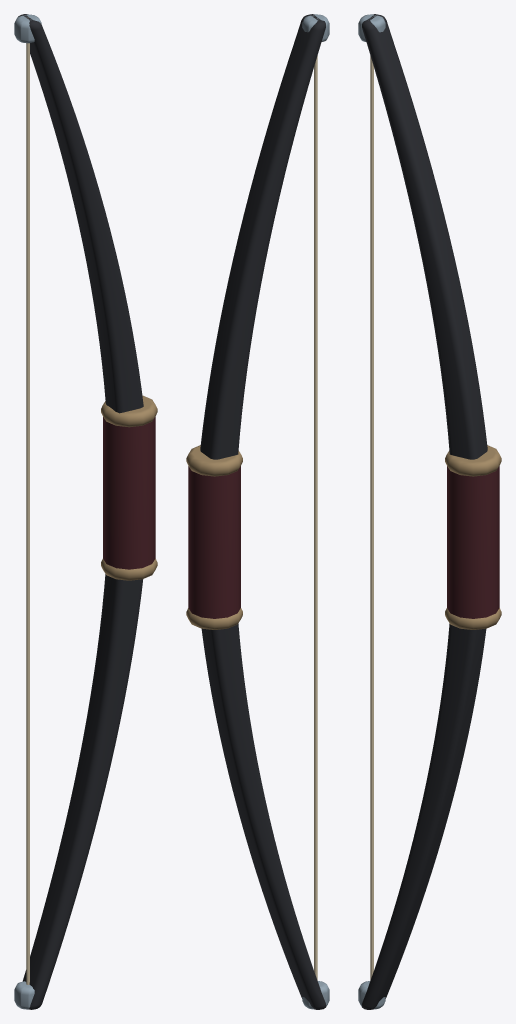
The model's file is briar-whisper.glb.
3 renders of one model, left to right at view 1: azimuth 30°, elevation 25°; view 2: azimuth 210°, elevation 25°; view 3: azimuth 330°, elevation 25°, orthographic.
Visible parts, largest first — view 1: Continuous tapered self-bow limb.001, Oxblood bow grip.001, Continuous flax string.001, Flush grip binding.003, Flush grip binding.002, Fitted horn nock.003, Fitted horn nock.002; view 2: Continuous tapered self-bow limb.001, Oxblood bow grip.001, Continuous flax string.001, Flush grip binding.003, Flush grip binding.002; view 3: Continuous tapered self-bow limb.001, Oxblood bow grip.001, Continuous flax string.001, Flush grip binding.003, Flush grip binding.002, Fitted horn nock.003.
Boxes of the visible parts, <box> form: Continuous tapered self-bow limb.001: <box>18,14,143,1009</box>; Oxblood bow grip.001: <box>103,416,155,569</box>; Continuous flax string.001: <box>26,17,29,984</box>; Flush grip binding.003: <box>101,395,157,427</box>; Flush grip binding.002: <box>101,558,157,580</box>; Fitted horn nock.003: <box>14,14,41,43</box>; Fitted horn nock.002: <box>14,981,34,1009</box>; Continuous tapered self-bow limb.001: <box>200,14,325,1009</box>; Oxblood bow grip.001: <box>188,466,240,618</box>; Continuous flax string.001: <box>314,56,317,980</box>; Flush grip binding.003: <box>186,445,242,476</box>; Flush grip binding.002: <box>186,608,242,629</box>; Continuous tapered self-bow limb.001: <box>362,14,487,1009</box>; Oxblood bow grip.001: <box>447,466,499,618</box>; Continuous flax string.001: <box>370,56,373,980</box>; Flush grip binding.003: <box>445,445,501,476</box>; Flush grip binding.002: <box>445,608,501,629</box>; Fitted horn nock.003: <box>358,14,385,41</box>.
Bounding box in the file's own units: 0.1621 × 1.12 × 0.058.
